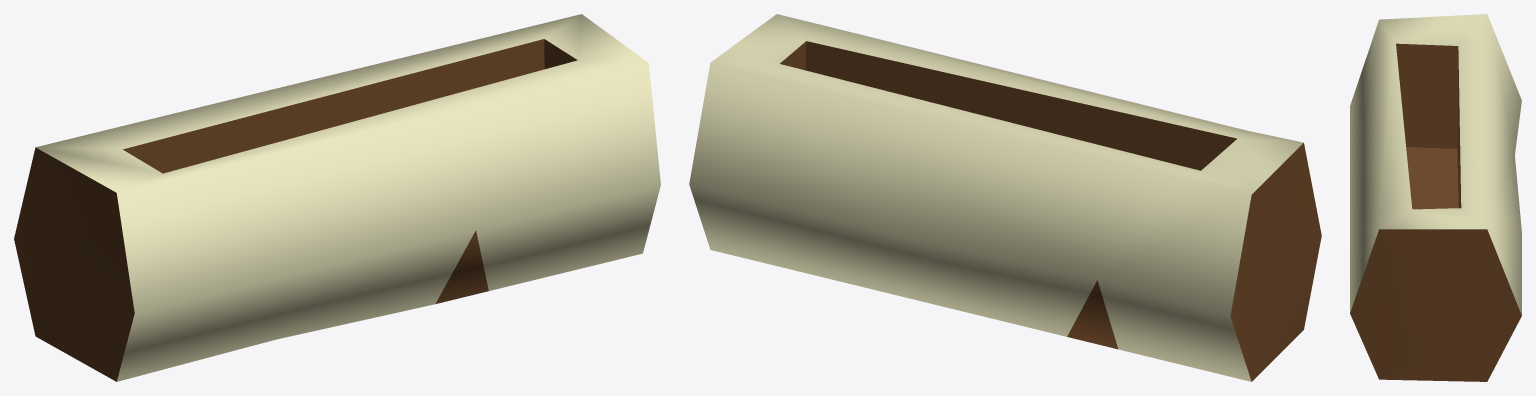
Rendered from birchLogDrum.glb.
3 views of the same model, side by side, from view 1: azimuth 30°, elevation 25°; view 2: azimuth 150°, elevation 25°; view 3: azimuth 270°, elevation 25° (orthographic). The views are drawn at different scales.
Visible parts, largest first — view 1: Cylinder; view 2: Cylinder; view 3: Cylinder.
Part boxes in pixels (bbox=[...]): Cylinder: bbox=[14, 14, 660, 381]; Cylinder: bbox=[689, 14, 1321, 381]; Cylinder: bbox=[1350, 14, 1521, 381].
Size of the model in its own units: 0.632 by 0.209 by 0.2133.
